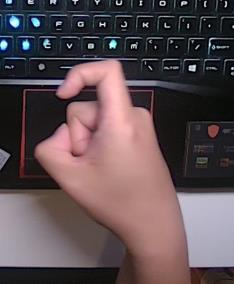anticlockwise: (30, 57, 187, 233)
